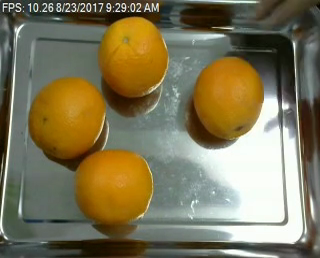Orange: (28, 77, 106, 156), (75, 150, 153, 226), (98, 16, 170, 97), (194, 56, 264, 139)
